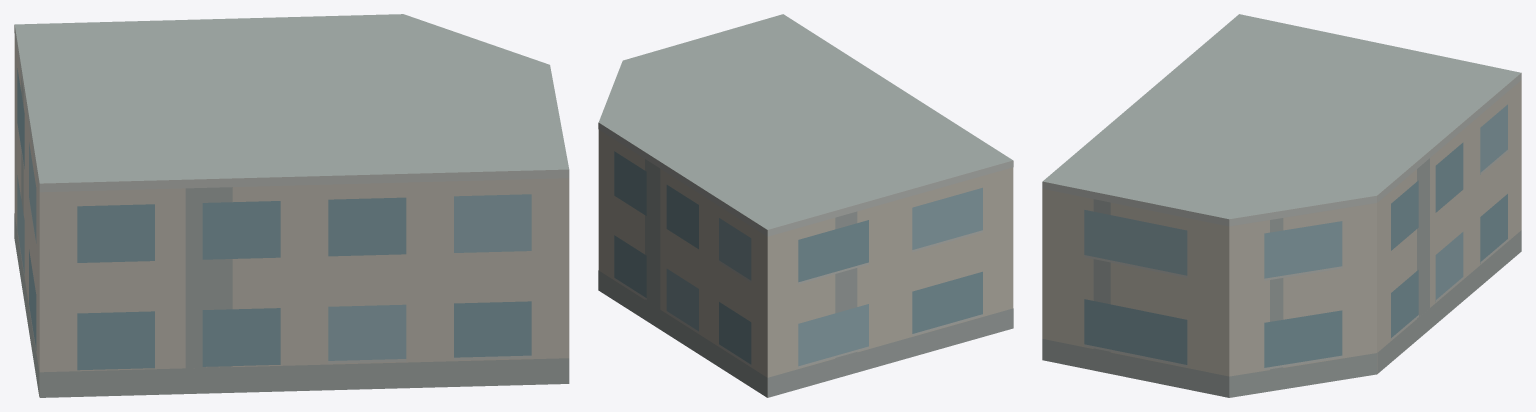
Rendered from residential-59e14da8-94b4-4393-8e91-96c69e5e95d9.glb.
The picture shows the model from 3 angles, left to right: view 1: azimuth 30°, elevation 25°; view 2: azimuth 150°, elevation 25°; view 3: azimuth 270°, elevation 25°; orthographic projection. The views are drawn at different scales.
Parts seen in each view (by area): view 1: residential-59e14da8-94b4-4393-8e91-96c69e5e95d9.tmp; view 2: residential-59e14da8-94b4-4393-8e91-96c69e5e95d9.tmp; view 3: residential-59e14da8-94b4-4393-8e91-96c69e5e95d9.tmp.
Boxes of the visible parts, x1,y1,x2,y2 form: residential-59e14da8-94b4-4393-8e91-96c69e5e95d9.tmp: (14, 14, 569, 397); residential-59e14da8-94b4-4393-8e91-96c69e5e95d9.tmp: (598, 14, 1013, 397); residential-59e14da8-94b4-4393-8e91-96c69e5e95d9.tmp: (1042, 14, 1521, 397).
Bounding box in the file's own units: 14.79 × 6 × 14.59.
